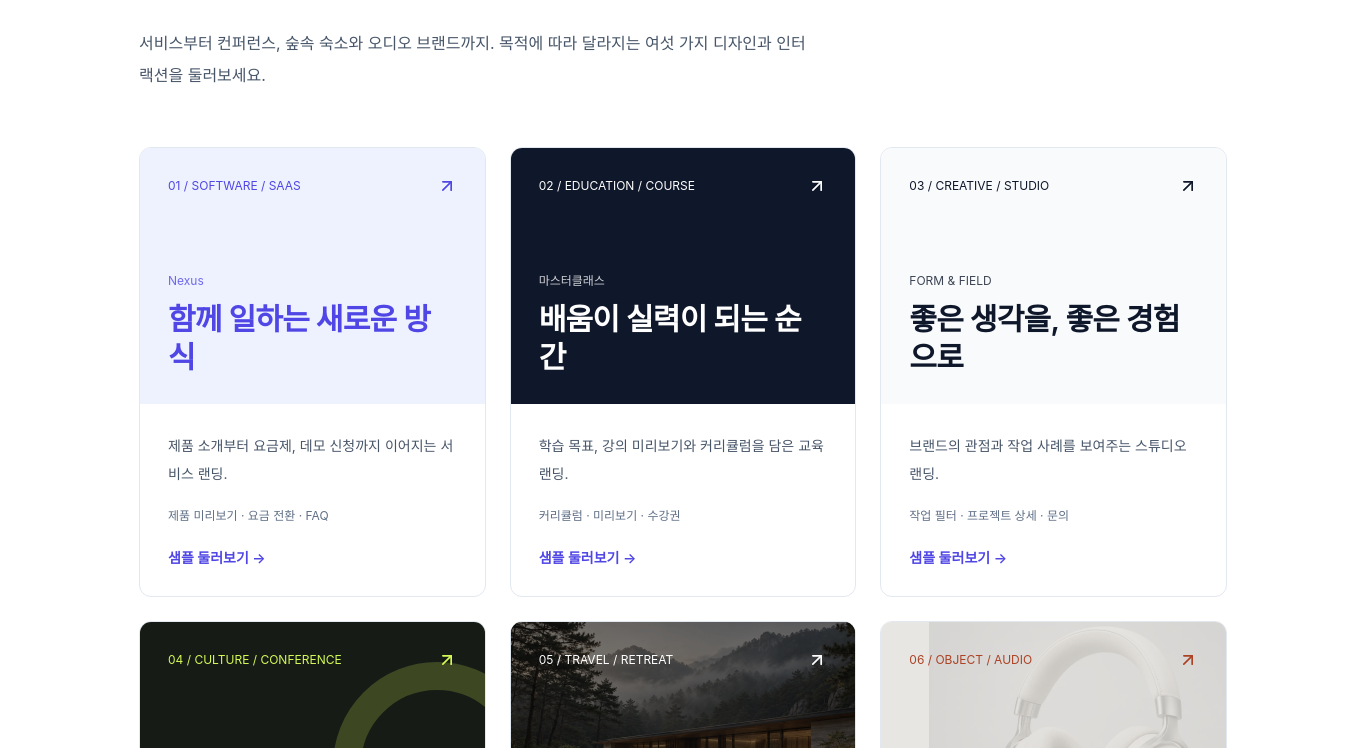
컬렉션에서 SaaS로 이동하고 요금 주기와 신청 내용을 연결한다
(page scrolled)
Click the link "함께 일하는 새로운 방식": (312, 372) [139, 147, 486, 597]
(page scrolled)
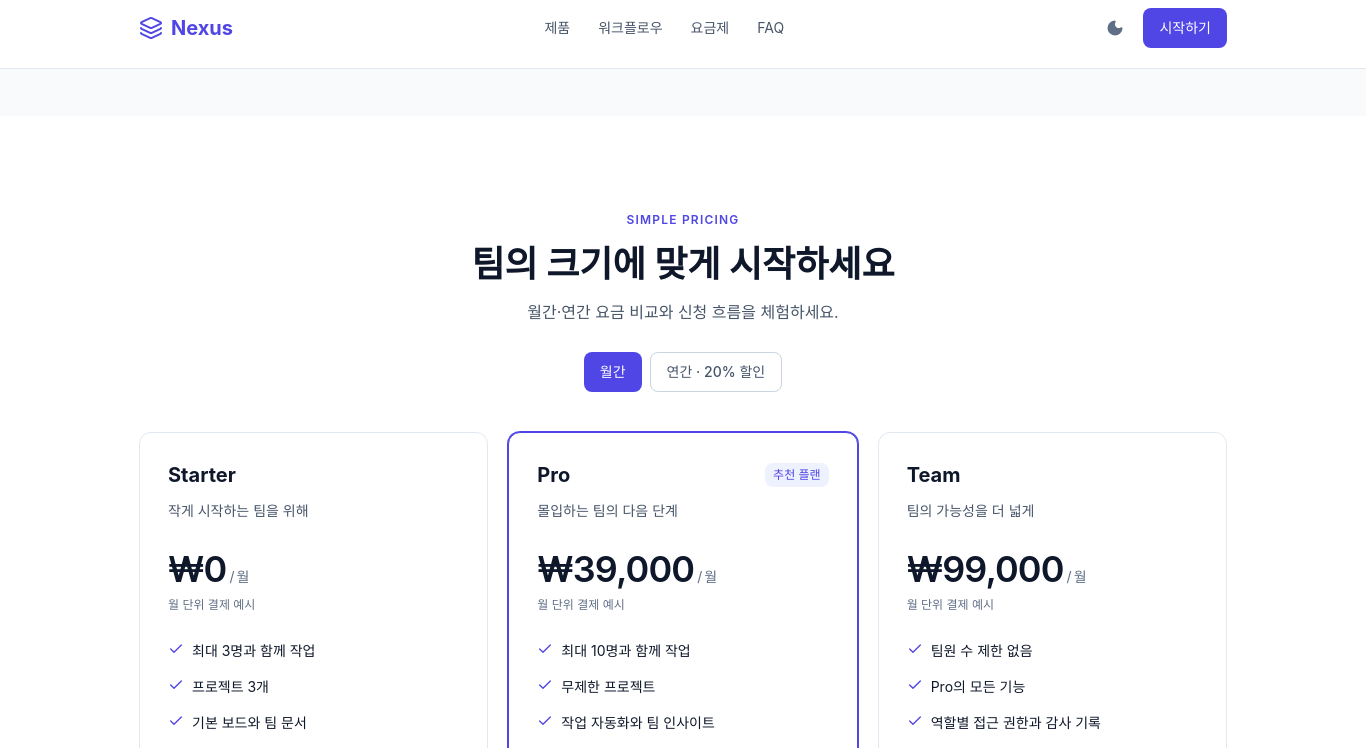
Click the button "연간 · 20% 할인": (716, 372) [650, 352, 782, 392]
(page scrolled)
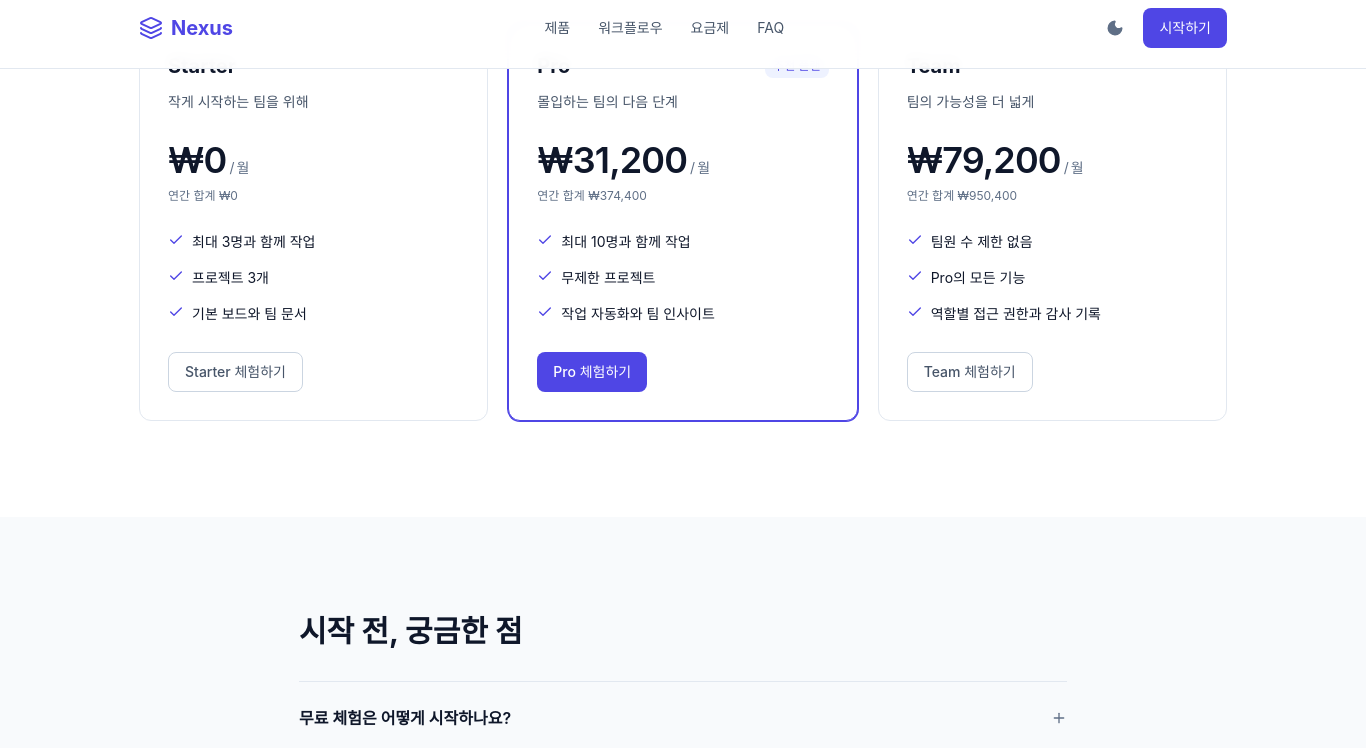
Result: the text "연간 합계 ₩374,400" is shown at [537, 188, 647, 203]
Click the button "Pro 체험하기": (592, 372) [537, 352, 647, 392]
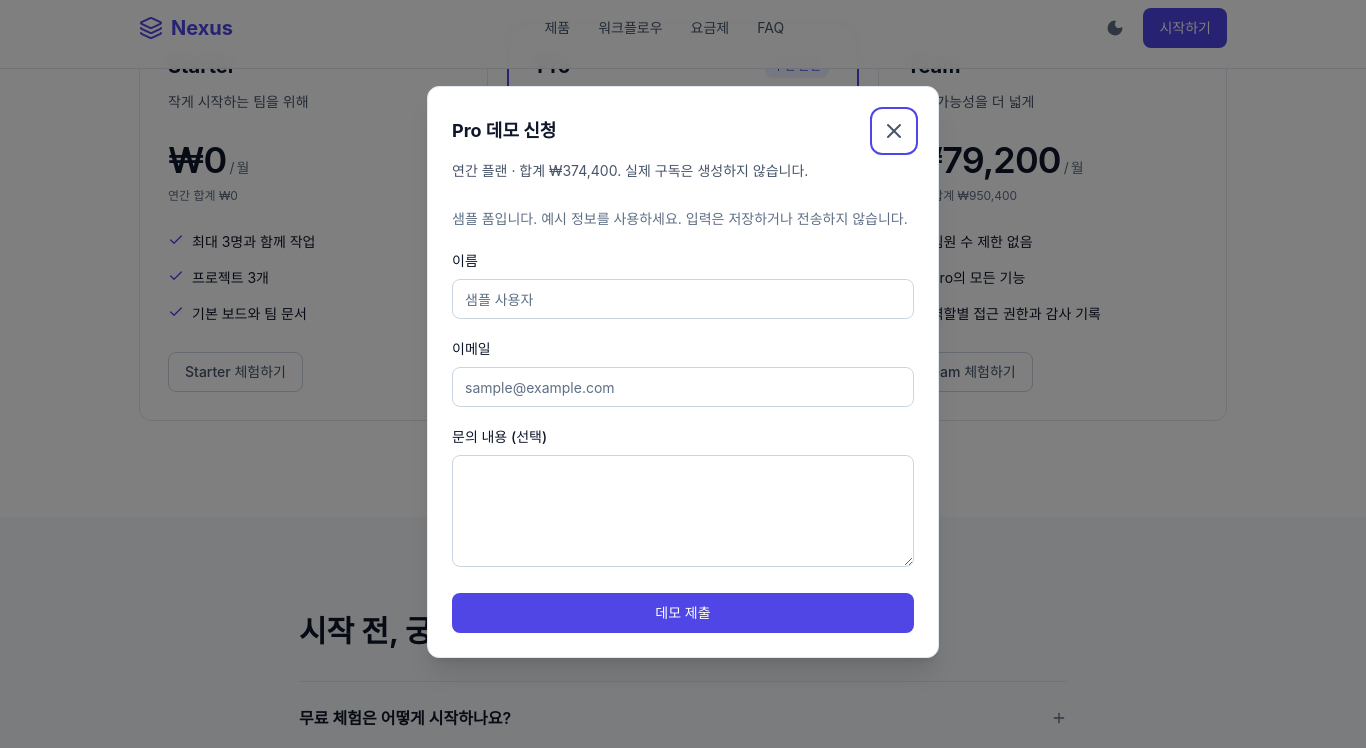
Result: the dialog shows "연간 플랜 · 합계 ₩374,400" at [452, 162, 808, 179]
Press Escape
(page scrolled)
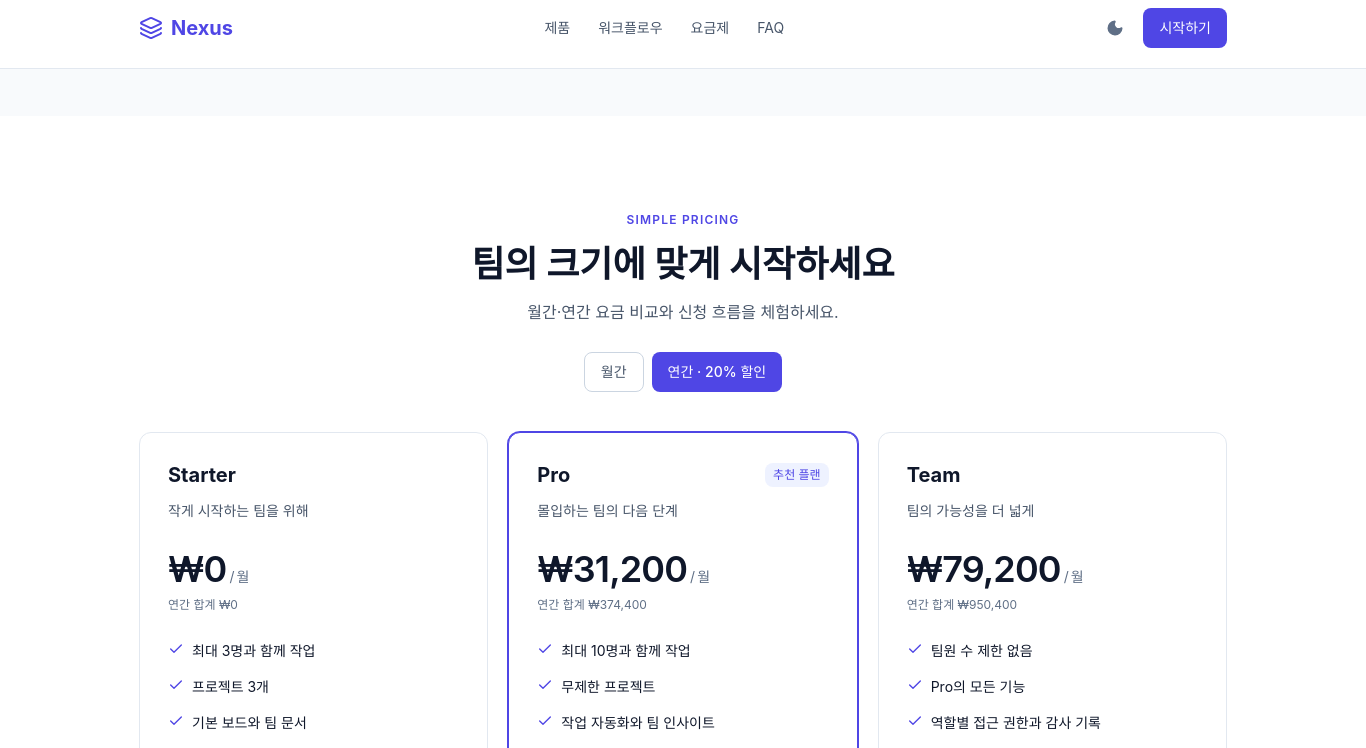
Click the button "월간": (614, 372) [584, 352, 644, 392]
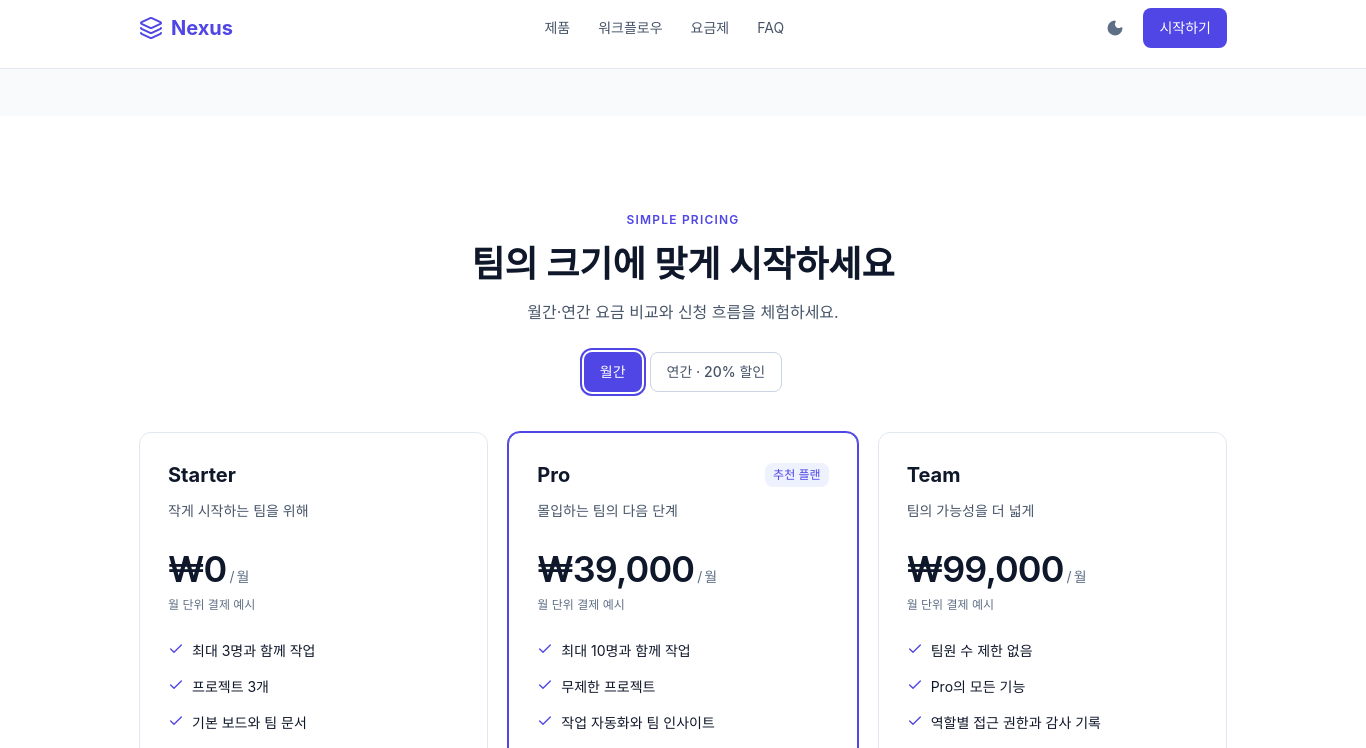
Result: the text "₩39,000" is shown at [537, 547, 716, 591]
